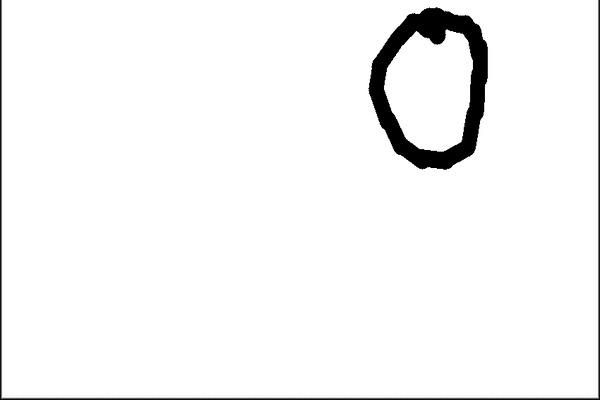O: (362, 5, 495, 176)
